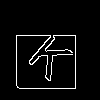K: (25, 25, 81, 82)
